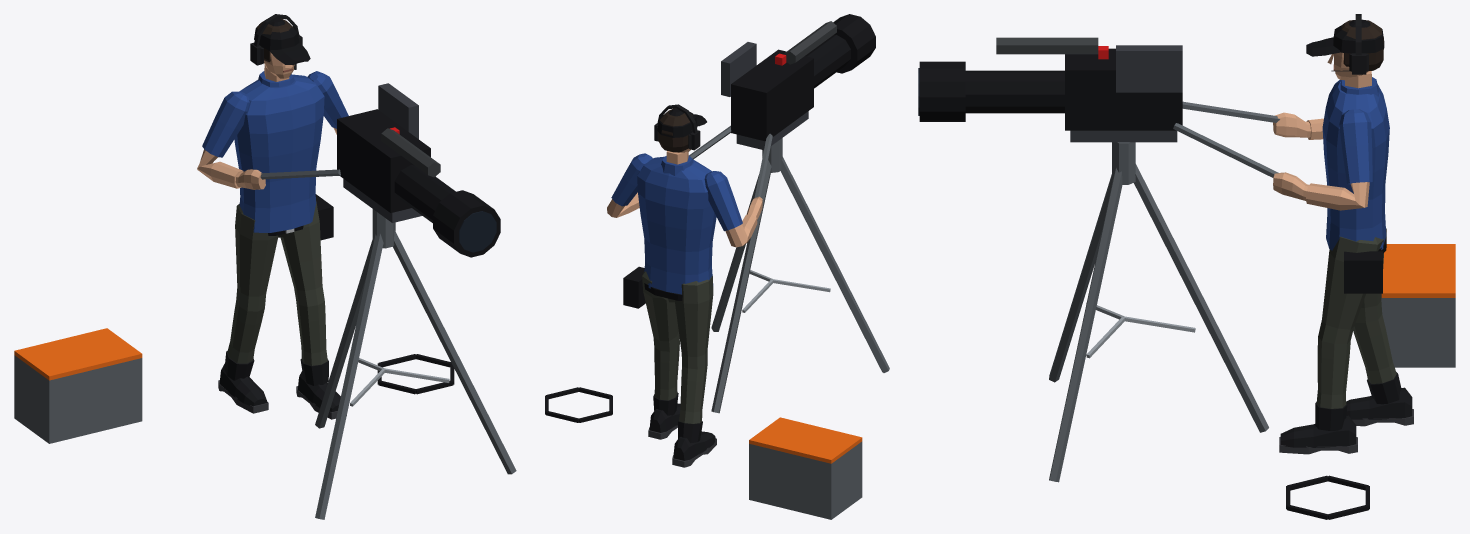
Rendered from tv_tripod.glb.
3 views of the same model, side by side, from view 1: azimuth 30°, elevation 25°; view 2: azimuth 150°, elevation 25°; view 3: azimuth 270°, elevation 25° (orthographic). The views are drawn at different scales.
Visible parts, largest first — view 1: Track, Kit, Tripod; view 2: Track, Kit, Tripod; view 3: Track, Tripod, Kit.
Part boxes in pixels (bbox=[...]): Track: bbox=[197, 14, 500, 419]; Kit: bbox=[14, 328, 454, 443]; Tripod: bbox=[315, 209, 516, 519]; Track: bbox=[607, 14, 875, 467]; Kit: bbox=[545, 387, 862, 519]; Tripod: bbox=[711, 138, 889, 413]; Track: bbox=[918, 14, 1413, 454]; Tripod: bbox=[1049, 142, 1268, 482]; Kit: bbox=[1286, 244, 1455, 519].
Bounding box in the file's own units: 1.89 × 1.81 × 2.11.
